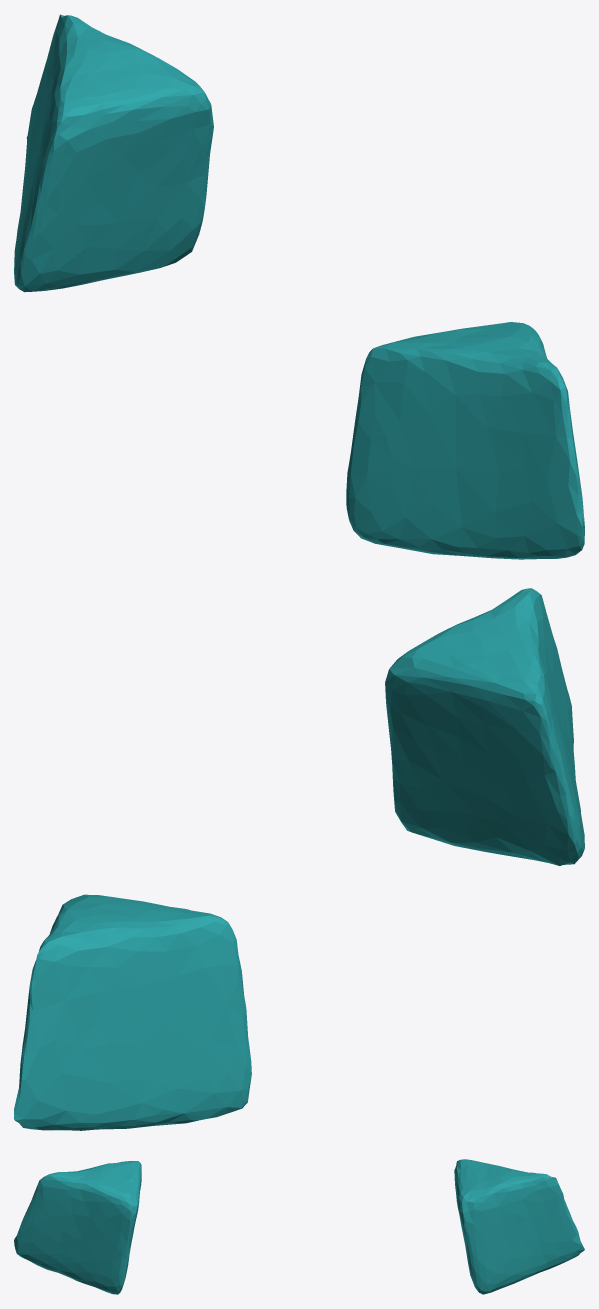
3 renders of one model, top to bottom at view 1: azimuth 30°, elevation 25°; view 2: azimuth 150°, elevation 25°; view 3: azimuth 270°, elevation 25°, orthographic. The views are drawn at different scales.
Visible parts, largest first — view 1: 394.obj; view 2: 394.obj; view 3: 394.obj.
Part boxes in pixels (bbox=[...]): 394.obj: bbox=[14, 14, 584, 559]; 394.obj: bbox=[14, 588, 584, 1130]; 394.obj: bbox=[14, 1159, 584, 1294].
Size of the model in its own units: 939 by 996 by 4686.
